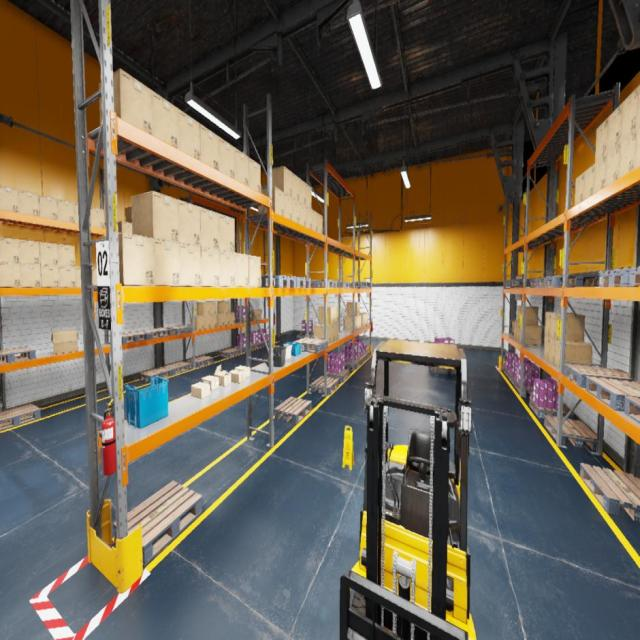box: (99, 68, 152, 135), (102, 232, 154, 286), (131, 191, 179, 242), (152, 91, 178, 149), (154, 238, 180, 286), (178, 108, 201, 160), (177, 243, 202, 286), (178, 200, 200, 247), (621, 85, 639, 142), (550, 313, 585, 342), (555, 341, 592, 368), (200, 124, 219, 170), (619, 130, 636, 178), (200, 207, 219, 249), (258, 186, 284, 216), (607, 103, 622, 153), (201, 247, 220, 286), (218, 136, 235, 178), (545, 312, 573, 337), (218, 213, 235, 253), (51, 330, 78, 354), (606, 143, 620, 186), (272, 166, 292, 196), (18, 190, 40, 217), (595, 118, 608, 163), (219, 250, 235, 286), (0, 262, 21, 287), (0, 237, 20, 263), (0, 185, 19, 212), (20, 264, 41, 288), (19, 240, 40, 264), (235, 148, 248, 186), (39, 194, 58, 220), (594, 154, 606, 193), (248, 157, 261, 193), (40, 242, 59, 266), (235, 252, 248, 286), (520, 325, 542, 345), (57, 198, 75, 222), (248, 255, 261, 288), (40, 265, 59, 287), (584, 163, 595, 200), (516, 306, 538, 324), (214, 364, 231, 386), (59, 266, 76, 288), (58, 244, 75, 266), (516, 323, 535, 342), (314, 324, 331, 343), (90, 206, 104, 228), (575, 172, 584, 206), (192, 382, 210, 398), (319, 306, 335, 324), (202, 375, 219, 390), (634, 127, 640, 168), (324, 306, 338, 323), (548, 338, 556, 366), (229, 369, 245, 383), (284, 192, 292, 219), (190, 315, 204, 330), (292, 172, 299, 201), (344, 316, 357, 331), (347, 302, 360, 316), (118, 221, 132, 234), (636, 84, 640, 129), (217, 300, 230, 313), (197, 302, 210, 315), (292, 198, 299, 222), (218, 312, 230, 326), (235, 366, 250, 377), (300, 178, 306, 205), (544, 336, 550, 362), (306, 183, 312, 208), (300, 202, 306, 226), (317, 212, 323, 235), (306, 206, 312, 228), (250, 309, 262, 320), (510, 318, 517, 336), (125, 206, 132, 223), (359, 313, 368, 326), (312, 210, 317, 232), (76, 267, 81, 287), (217, 313, 224, 327), (210, 314, 217, 328), (204, 315, 210, 329), (92, 268, 97, 284), (74, 203, 78, 223), (331, 323, 335, 342), (513, 322, 517, 340), (210, 302, 216, 314), (229, 313, 235, 324), (335, 323, 338, 340), (359, 315, 362, 328), (358, 315, 360, 330)
forklift: (351, 338, 476, 640)
pallets: (114, 480, 202, 566), (580, 463, 639, 522), (585, 375, 640, 411), (544, 415, 597, 451), (564, 364, 636, 388), (0, 403, 41, 431), (529, 396, 574, 420), (274, 397, 312, 424), (543, 275, 599, 287), (0, 347, 36, 364), (599, 268, 630, 287), (311, 376, 339, 395), (294, 338, 328, 353), (536, 277, 585, 287), (140, 367, 172, 382), (624, 396, 640, 424), (122, 331, 150, 344), (163, 362, 191, 375), (139, 328, 172, 339), (261, 276, 296, 286), (514, 378, 533, 396), (188, 355, 214, 368), (327, 369, 350, 383), (165, 325, 192, 335), (629, 267, 640, 286), (509, 278, 535, 286), (218, 348, 240, 357), (311, 280, 337, 287), (344, 359, 362, 369), (294, 277, 311, 287), (234, 344, 254, 352), (504, 280, 528, 286), (235, 317, 252, 323), (250, 342, 264, 349), (358, 354, 367, 364), (349, 282, 366, 287), (363, 350, 371, 360), (508, 372, 514, 385), (300, 330, 313, 336), (503, 366, 509, 377), (362, 282, 371, 288), (344, 281, 351, 288), (260, 340, 268, 346), (337, 282, 344, 288), (530, 279, 535, 287)
